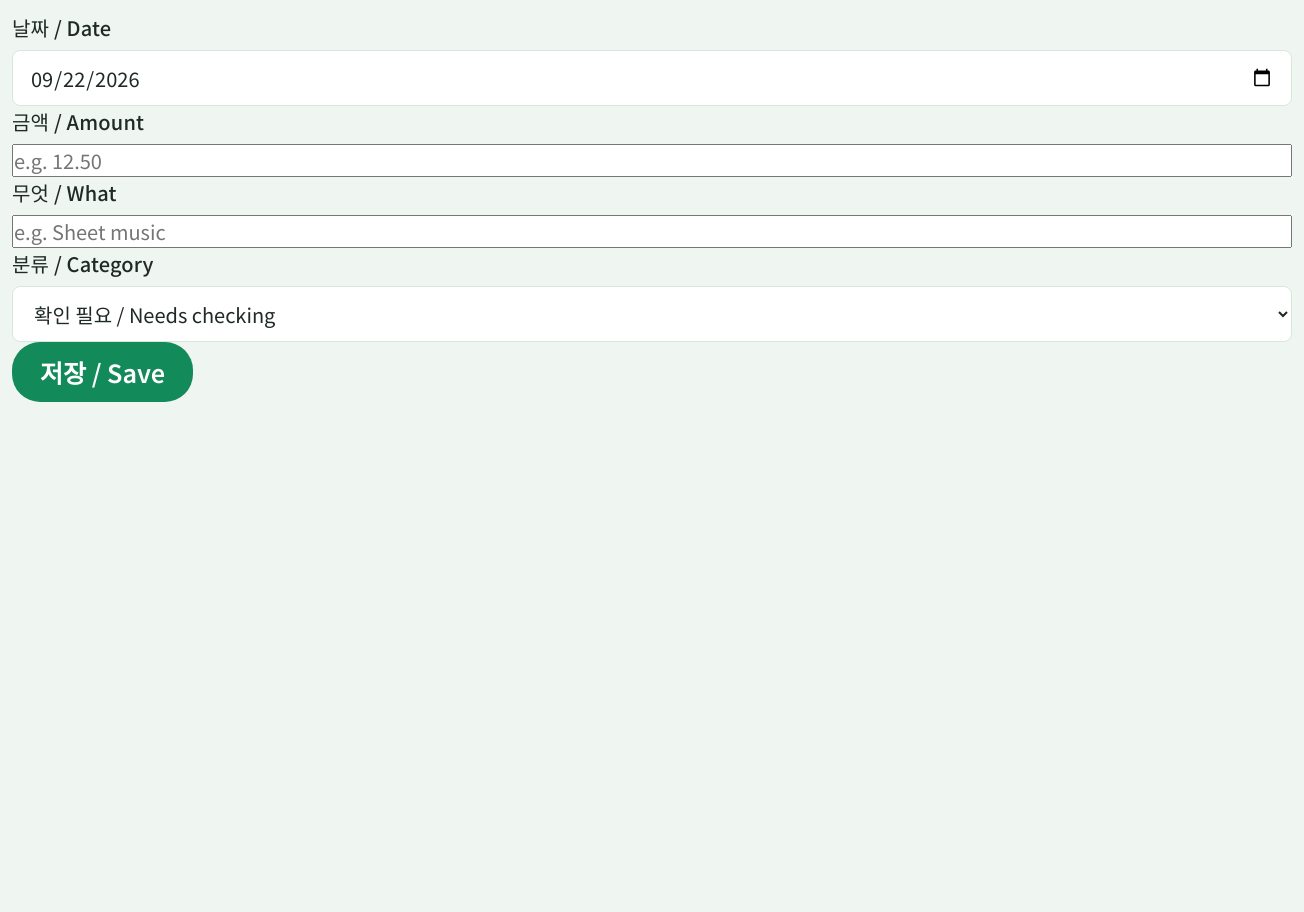
Test: BoughtSomethingForm › shows large purchase question when amount exceeds threshold
Default threshold is £500 (50000p), so £600 should trigger it
Step 1. Type "600" into the field labelled "금액 / Amount" → (652, 160), box x1=12 y1=144 x2=1292 y2=177
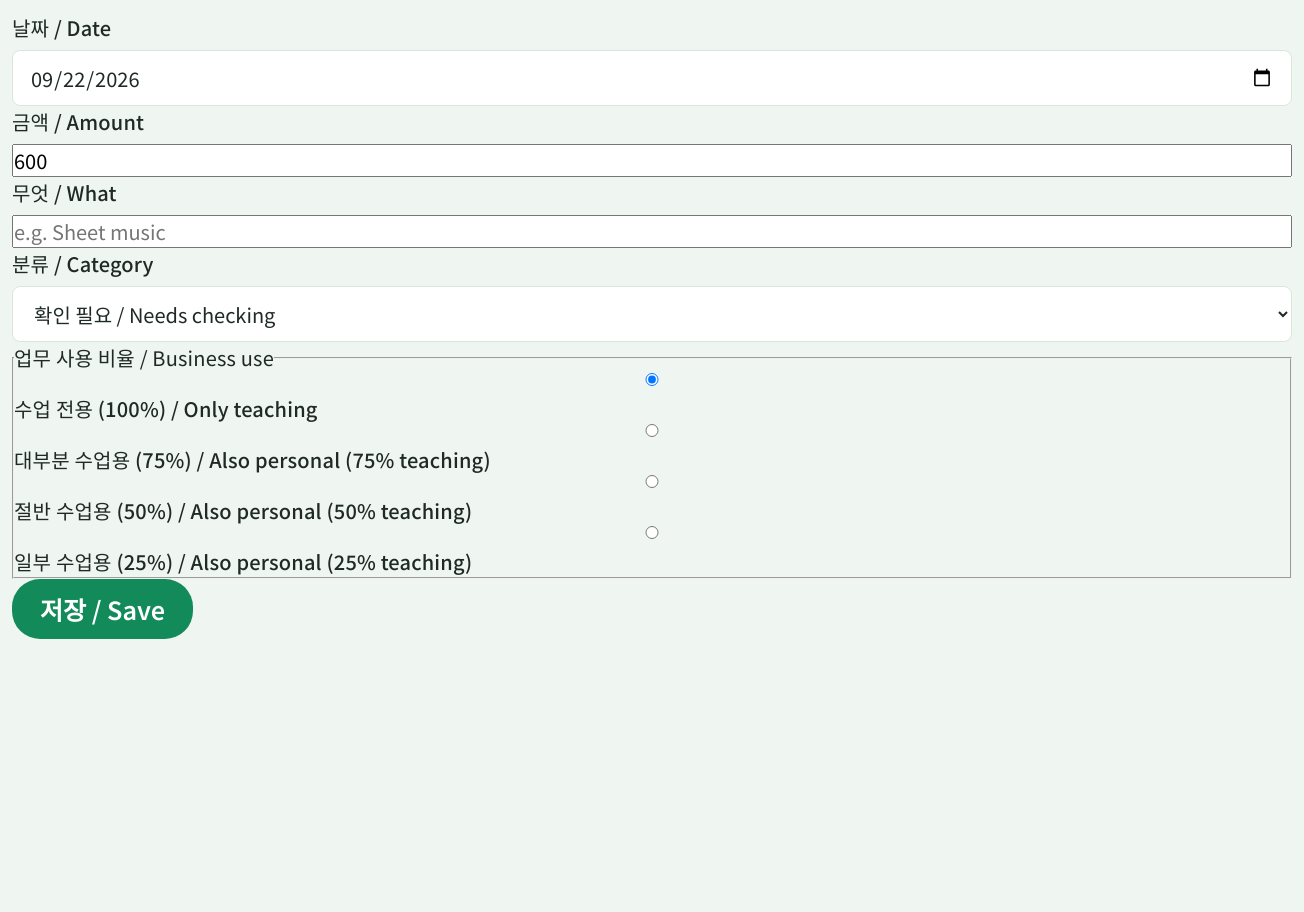
Expected: the text "수업 전용 (100%) / Only teaching" is shown, x1=14 y1=373 x2=1290 y2=424
